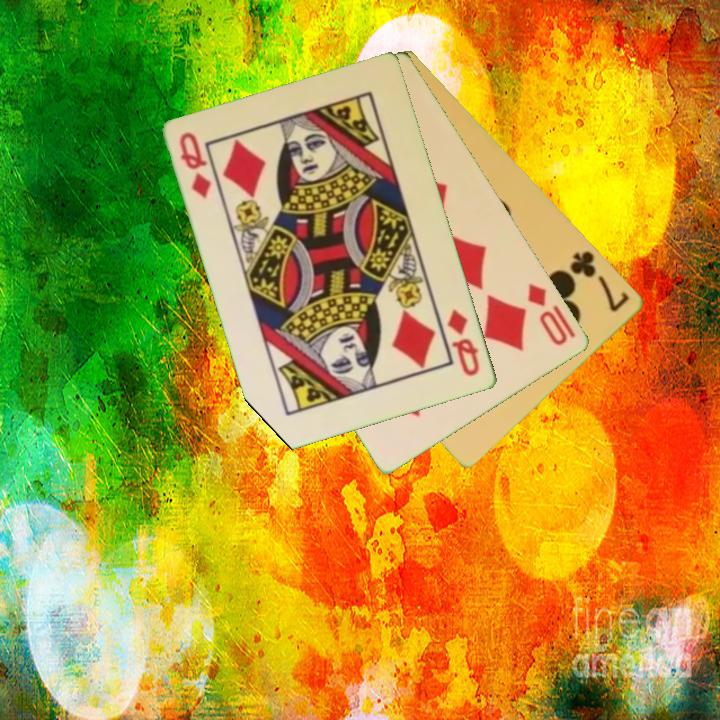10d: (524, 280, 571, 349)
7c: (567, 247, 633, 315)
Qd: (444, 306, 483, 380), (176, 128, 215, 202)
